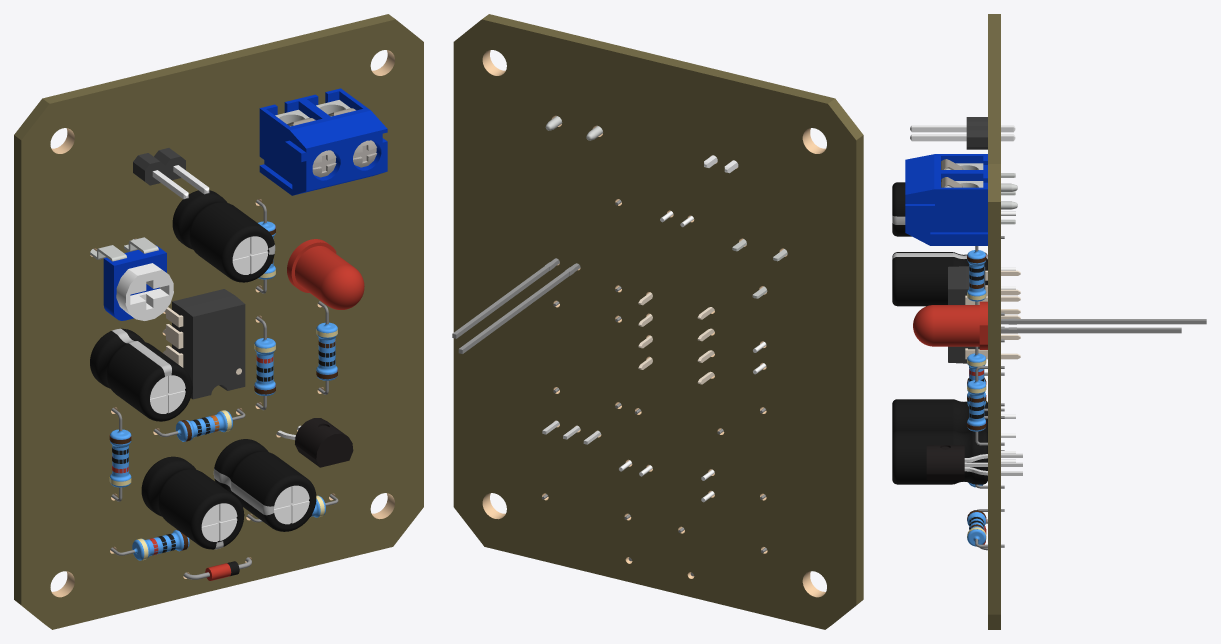
The model's file is Audio Peak Indicator v2.obj.
3 views of the same model, side by side, from view 1: azimuth 30°, elevation 25°; view 2: azimuth 150°, elevation 25°; view 3: azimuth 270°, elevation 25° (orthographic). The views are drawn at different scales.
Visible parts, largest first — view 1: Solid1, Solid1:1, Solid1:10, Solid1:6, Solid1:5, Solid1:3, Solid1:4, Solid1:13, Solid1:2, Solid1:14, Solid1:26, Solid2:1 (+4 smaller); view 2: Solid1, Solid1:12, Solid2:6, Solid1:10; view 3: Solid1, Solid1:1, Solid1:4, Solid1:6, Solid1:13, Solid1:5, Solid1:10, Solid1:26, Solid1:14, Solid2:6, Solid1:12, Solid1:3 (+1 smaller).
Part boxes in pixels (x1,y1,x2,y2): Solid1: (14,14,423,629); Solid1:1: (259,88,387,195); Solid1:10: (163,289,245,399); Solid1:6: (90,328,192,421); Solid1:5: (141,456,244,549); Solid1:3: (172,190,275,282); Solid1:4: (213,439,316,531); Solid1:13: (287,239,364,309); Solid1:2: (116,263,173,320); Solid1:14: (295,418,353,467); Solid1:26: (133,148,209,199); Solid2:1: (103,245,166,320); Solid1: (453,14,863,629); Solid1:12: (458,263,580,353); Solid2:6: (452,258,559,338); Solid1:10: (638,292,714,384); Solid1: (988,14,1000,629); Solid1:1: (905,154,987,245); Solid1:4: (892,430,1015,484); Solid1:6: (892,252,1015,306); Solid1:13: (913,301,987,349); Solid1:5: (892,399,1015,437); Solid1:10: (948,266,1020,363); Solid1:26: (910,117,1015,149); Solid1:14: (926,445,964,480); Solid2:6: (1001,327,1181,333); Solid1:12: (1001,318,1206,324); Solid1:3: (892,182,1015,236).
Size of what is drawn, in the model's own units: 49.51 by 61.9 by 37.76.
